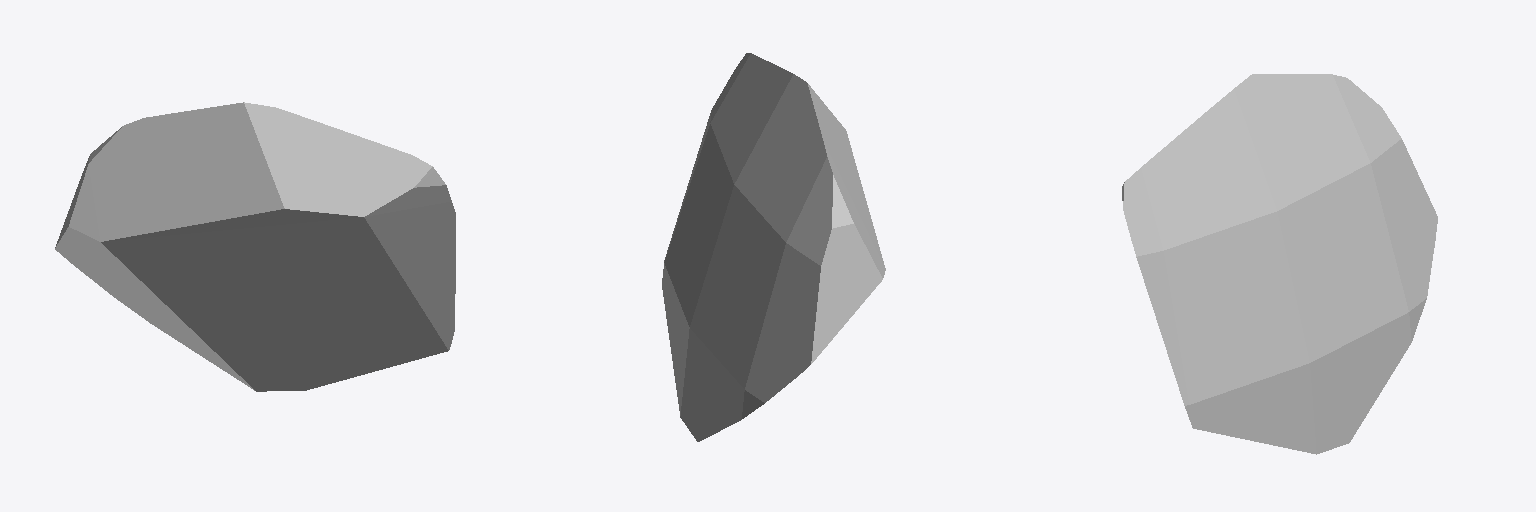
Rendered from Sphere_Cell_Fracture23.obj.
3 views of the same model, side by side, from view 1: azimuth 30°, elevation 25°; view 2: azimuth 150°, elevation 25°; view 3: azimuth 270°, elevation 25° (orthographic).
Size of the model in its own units: 0.4302 by 0.4614 by 0.3897.